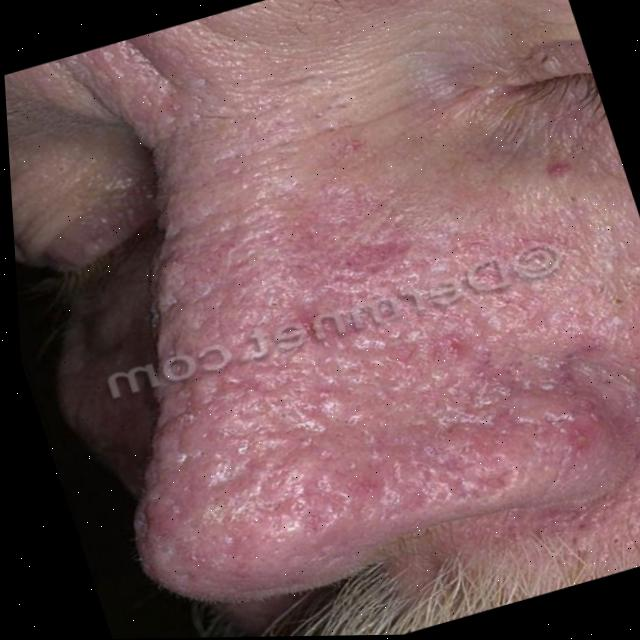Rosacea: (36, 84, 640, 600)
